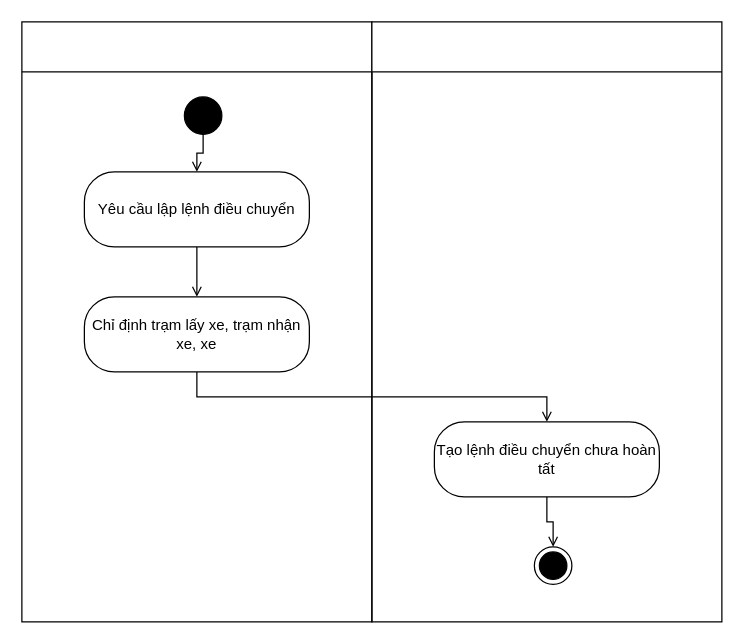
Some shapes in this 744 by 644 pixel diagram are drawn without their labels. Each missing label, with the box of its shape:
Hệ thống: (371, 21, 722, 622)
Nhân viên điều phối: (21, 21, 372, 622)
